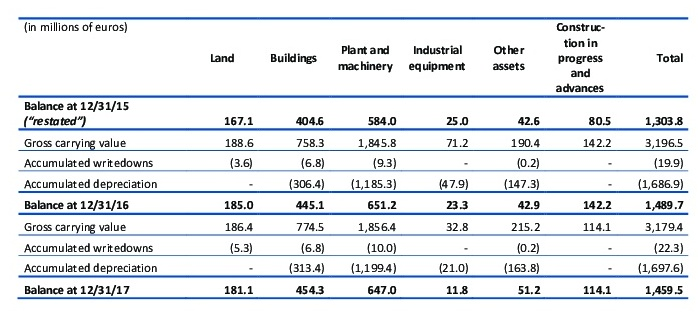table: (0, 0, 698, 316)
